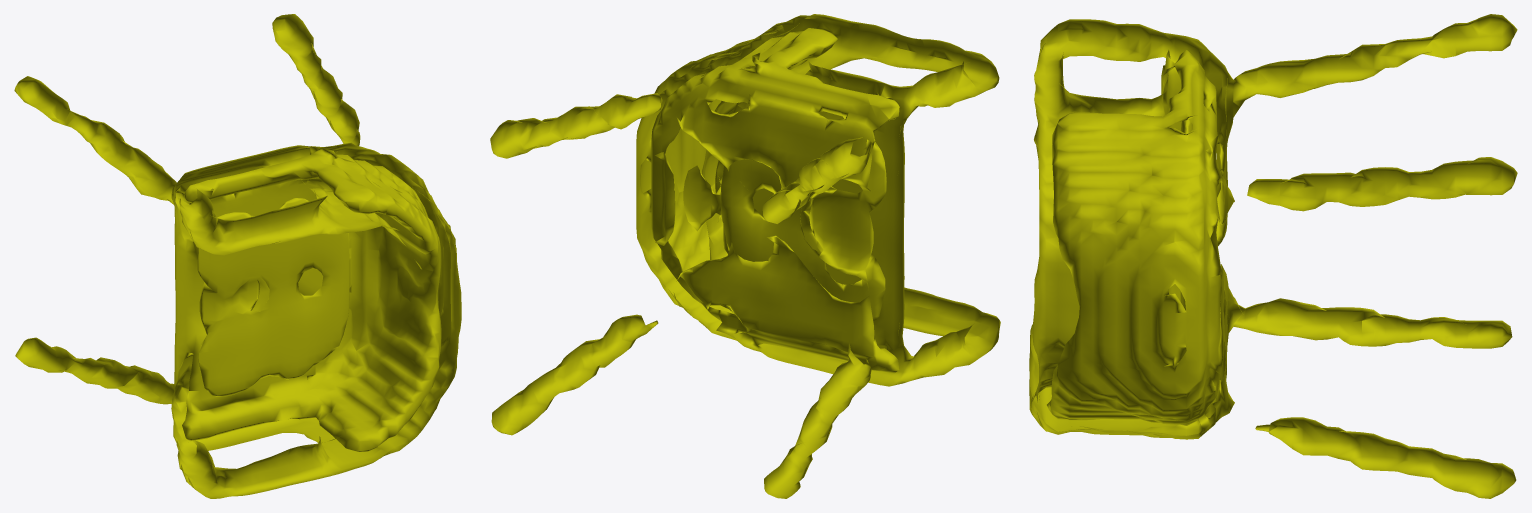
3 renders of one model, left to right at view 1: azimuth 30°, elevation 25°; view 2: azimuth 150°, elevation 25°; view 3: azimuth 270°, elevation 25°, orthographic. The views are drawn at different scales.
Parts seen in each view (by area): view 1: world; view 2: world; view 3: world.
Part boxes in pixels (x1=…): world: x1=14, y1=14, x2=461, y2=498; world: x1=490, y1=14, x2=1000, y2=498; world: x1=1029, y1=14, x2=1517, y2=498.
Bounding box in the file's own units: 33.27 × 31.9 × 41.78.
